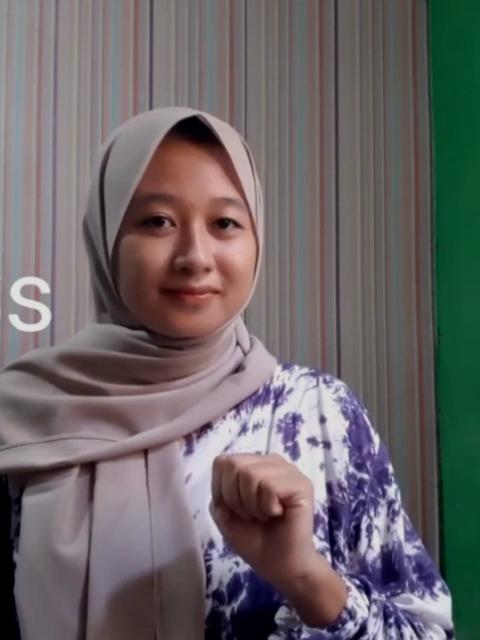S: (201, 448, 327, 580)
